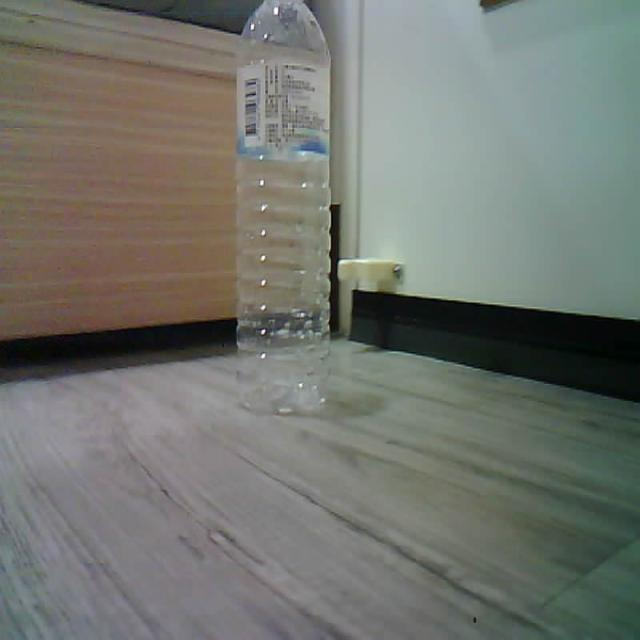bottle: (236, 0, 329, 411)
